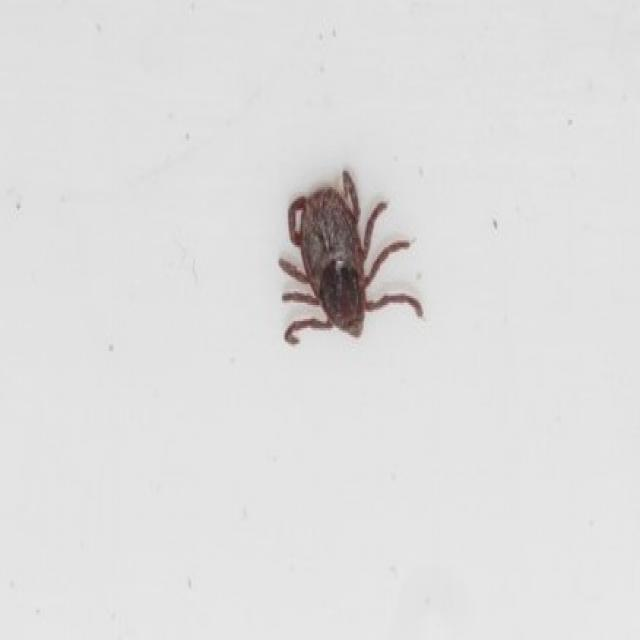Rhipicephalus Sanguineus-F: (279, 169, 425, 347)
